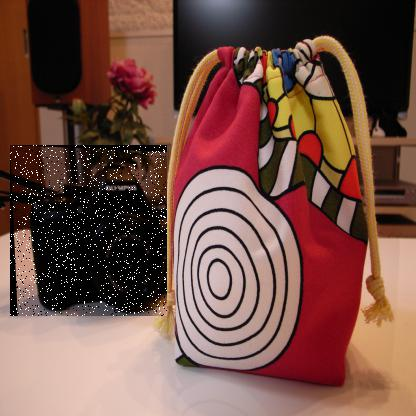Camera: (12, 146, 170, 318)
